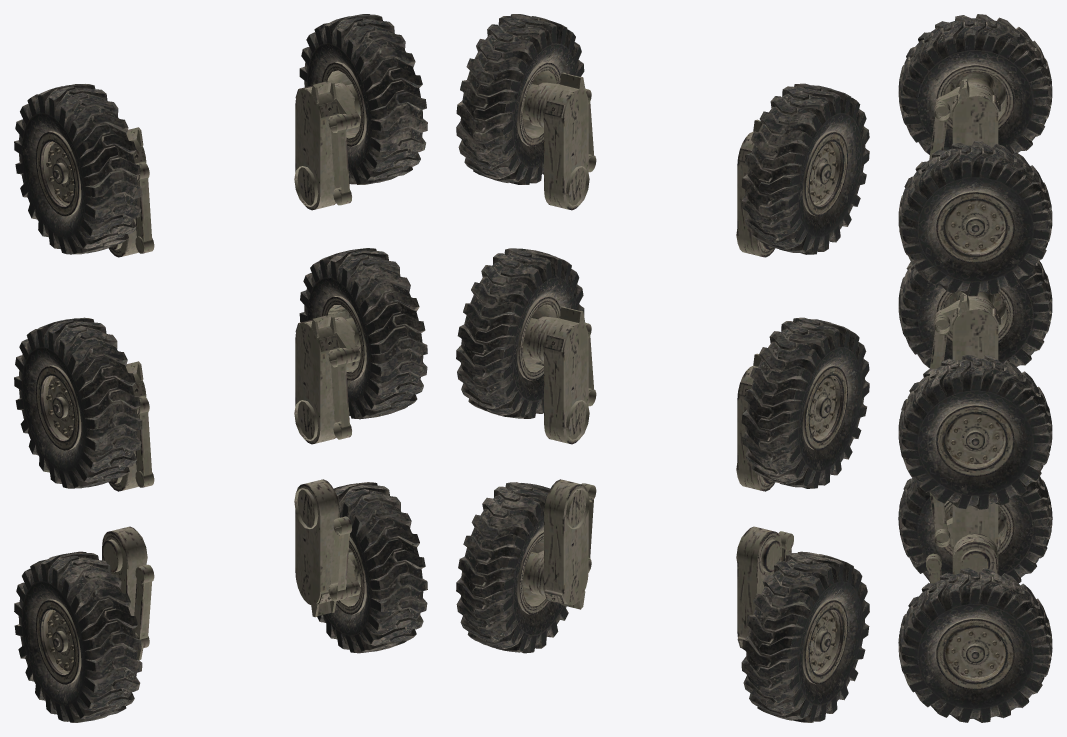
Rendered from Chassis.glb.
The picture shows the model from 3 angles, left to right: view 1: azimuth 30°, elevation 25°; view 2: azimuth 150°, elevation 25°; view 3: azimuth 270°, elevation 25°; orthographic projection. The views are drawn at different scales.
Parts seen in each view (by area): view 1: set_2_group_1, set_3_group_1, set_1_group_0, set_2_group_0, set_0_group_0, set_3_group_0; view 2: set_2_group_1, set_3_group_1, set_1_group_0, set_2_group_0, set_0_group_0, set_3_group_0; view 3: set_3_group_1, set_2_group_1, set_3_group_0, set_0_group_0, set_2_group_0, set_1_group_0.
Part boxes in pixels (left/top/right/bottom): set_2_group_1: left=14, top=84, right=142, bottom=722; set_3_group_1: left=299, top=14, right=427, bottom=653; set_1_group_0: left=294, top=80, right=360, bottom=617; set_2_group_0: left=36, top=131, right=81, bottom=684; set_0_group_0: left=102, top=127, right=154, bottom=659; set_3_group_0: left=321, top=61, right=366, bottom=614; set_2_group_1: left=741, top=83, right=869, bottom=722; set_3_group_1: left=456, top=14, right=584, bottom=653; set_1_group_0: left=528, top=72, right=596, bottom=609; set_2_group_0: left=802, top=131, right=847, bottom=684; set_0_group_0: left=736, top=119, right=793, bottom=648; set_3_group_0: left=517, top=62, right=560, bottom=614; set_3_group_1: left=898, top=141, right=1052, bottom=722; set_2_group_1: left=898, top=14, right=1052, bottom=583; set_3_group_0: left=936, top=191, right=1014, bottom=690; set_0_group_0: left=929, top=79, right=1000, bottom=551; set_2_group_0: left=936, top=64, right=1014, bottom=555; set_1_group_0: left=926, top=533, right=998, bottom=583.
Bounding box in the file's own units: 2.98 × 5.28 × 1.3.
Materials: 6 (6 with a texture image).
